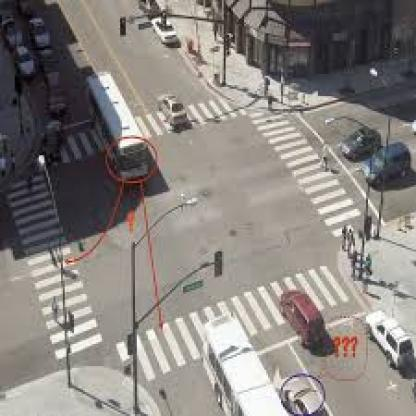car: (84, 64, 158, 208), (180, 318, 286, 416), (276, 266, 338, 356), (352, 291, 416, 376), (149, 78, 202, 135), (365, 137, 416, 194), (36, 114, 75, 177), (138, 9, 188, 55), (334, 123, 383, 163), (5, 46, 46, 86), (26, 12, 63, 56)
